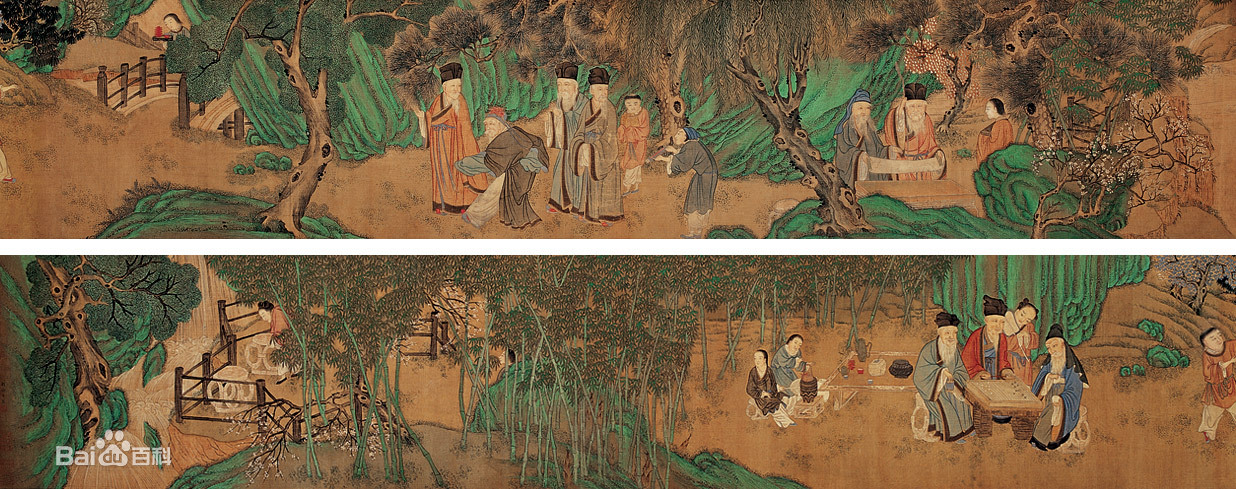bamboo: (450, 260, 696, 487), (224, 263, 450, 489), (706, 260, 912, 349)
bridge: (87, 45, 280, 144)
chessboard: (970, 379, 1036, 407)
kid: (661, 119, 720, 239), (1193, 324, 1236, 458), (743, 345, 793, 434), (616, 92, 651, 194), (1004, 298, 1039, 388), (772, 328, 810, 394), (976, 97, 1012, 164)
man: (451, 103, 553, 228), (408, 62, 484, 220), (576, 61, 630, 223), (912, 308, 973, 447), (540, 58, 589, 217), (1039, 325, 1090, 453), (880, 79, 944, 180), (833, 80, 884, 186), (963, 289, 1020, 378), (471, 340, 526, 432), (253, 300, 309, 385)
table: (820, 343, 930, 415), (963, 375, 1043, 449), (208, 361, 263, 416), (246, 332, 294, 378)
tree: (176, 8, 406, 243), (14, 263, 188, 451), (1032, 97, 1211, 240)
willow: (596, 4, 914, 242)
woman: (160, 10, 195, 58)
